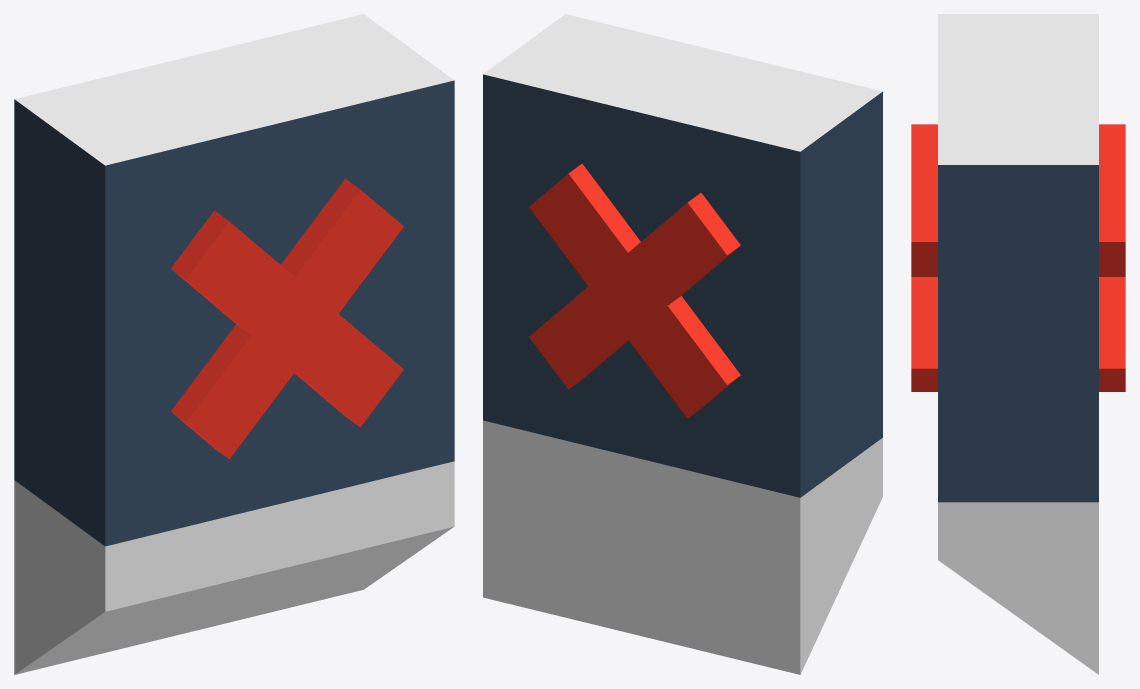
Rendered from EraserX.fbx.
3 views of the same model, side by side, from view 1: azimuth 30°, elevation 25°; view 2: azimuth 150°, elevation 25°; view 3: azimuth 270°, elevation 25° (orthographic). The views are drawn at different scales.
Visible parts, largest first — view 1: Group1; view 2: Group1; view 3: Group1.
Boxes of the visible parts, <box> form: Group1: <box>14,14,454,674</box>; Group1: <box>483,14,882,674</box>; Group1: <box>911,14,1125,674</box>.
Size of the model in its own units: 0.724 by 1.14 by 0.4344.
